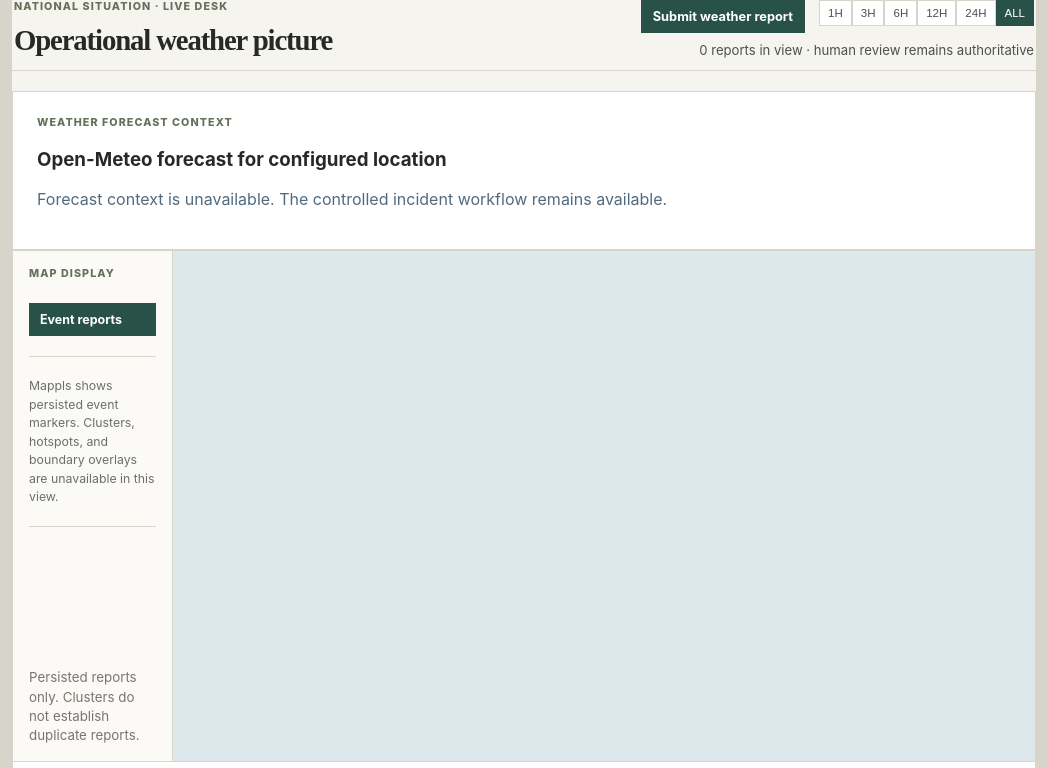
it: Mappls event reports control uses React routing and declares unavailable overlays
Expected: the text "Clusters, hotspots, and boundary overlays are unavailable" is shown, [29,378,155,504]
Click the button "Event reports" at (92, 320), box [29,303,156,336]
(page scrolled)
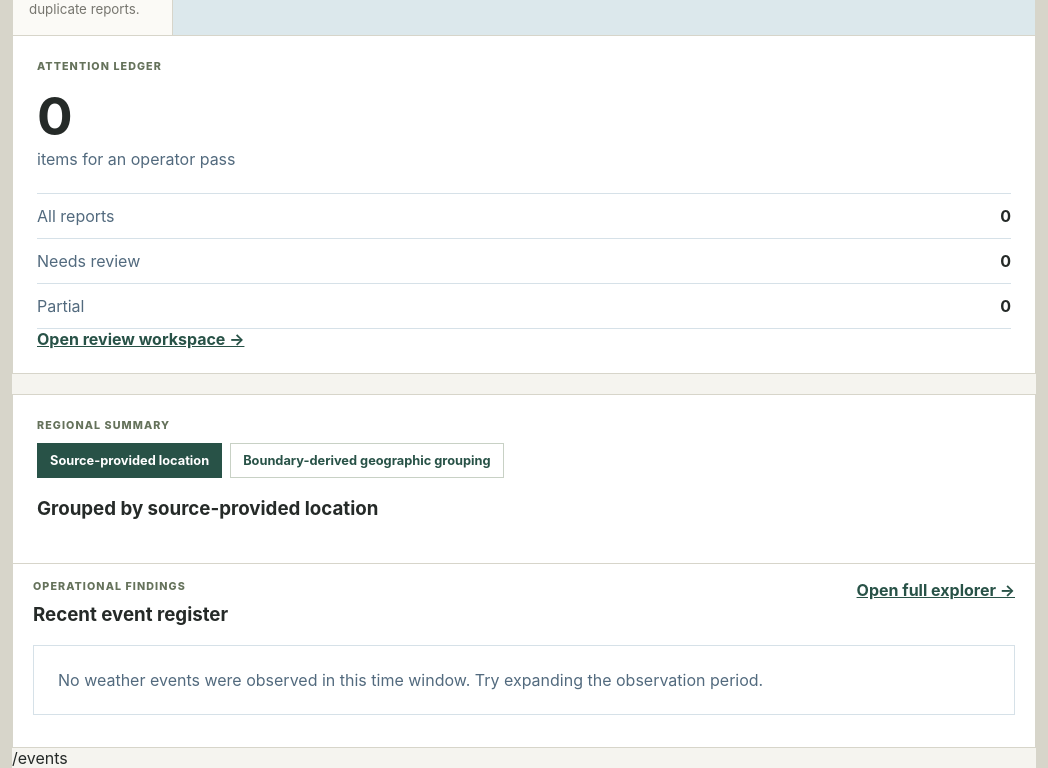
Now the text with test id "location" reads "/events", box [12,748,68,767]
